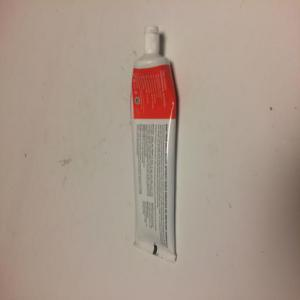Trash: (130, 23, 179, 263)
